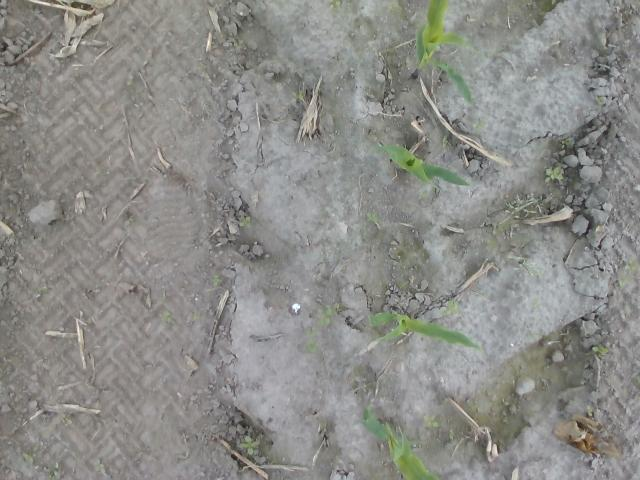Maize: (409, 0, 478, 107), (366, 303, 482, 354), (360, 407, 440, 479), (376, 136, 470, 191)
Weeds: (317, 304, 339, 328), (238, 434, 260, 454), (543, 165, 564, 184), (158, 308, 175, 326), (441, 300, 458, 314), (422, 414, 439, 428), (591, 342, 607, 355), (209, 274, 223, 288), (290, 89, 304, 102), (622, 258, 635, 271), (238, 214, 250, 228), (306, 336, 316, 352), (388, 0, 401, 12), (560, 138, 572, 149), (328, 0, 342, 8), (367, 210, 377, 220), (441, 136, 449, 146), (587, 406, 593, 418)
